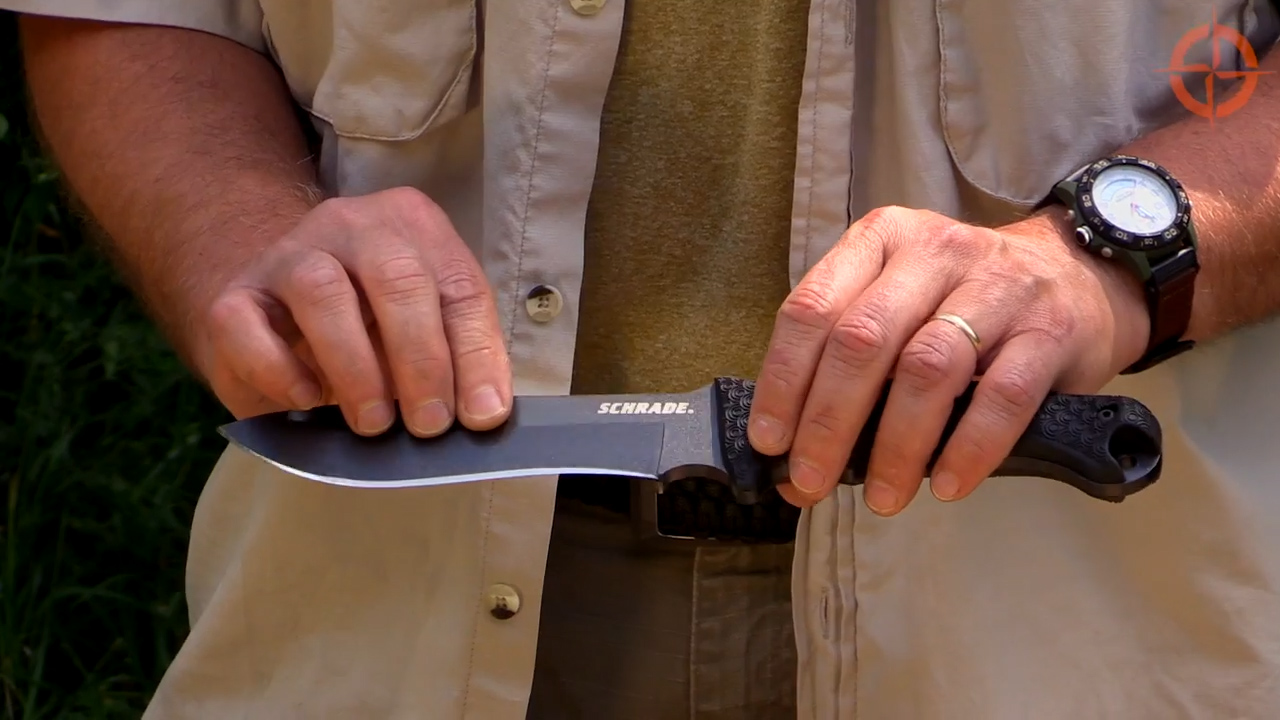knife: (187, 357, 1173, 524)
